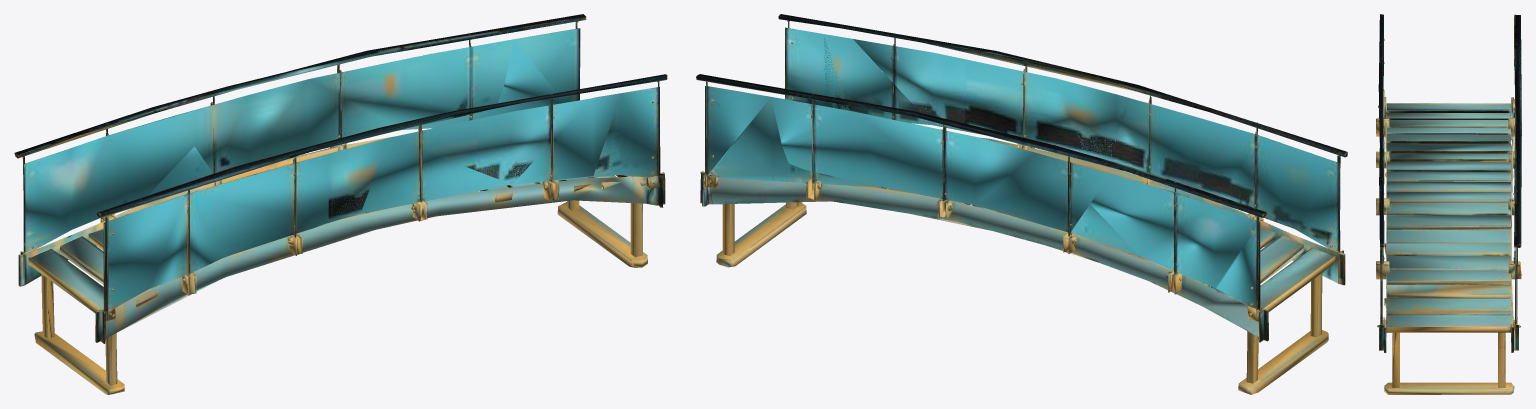
File: glass.glb
The picture shows the model from 3 angles, left to right: view 1: azimuth 30°, elevation 25°; view 2: azimuth 150°, elevation 25°; view 3: azimuth 270°, elevation 25°; orthographic projection. The views are drawn at different scales.
Size of the model in its own units: 0.9497 by 0.3272 by 0.2544.
1 material, 1 textured.
